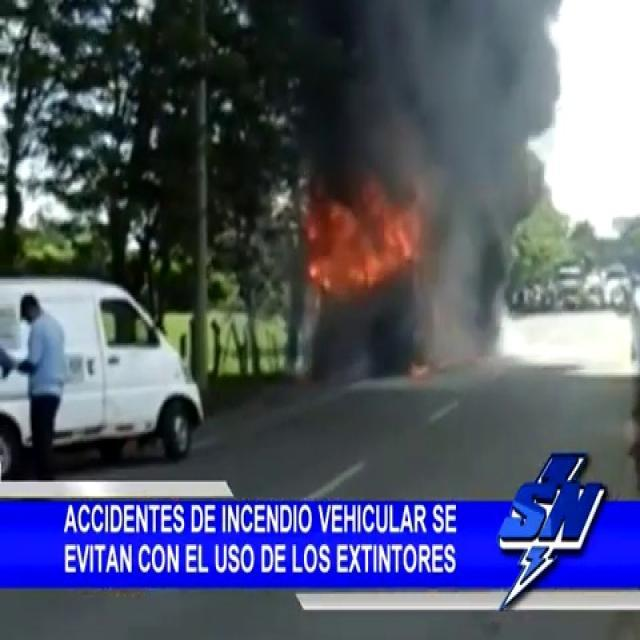Fire: (302, 168, 422, 310)
Smoke: (237, 0, 632, 343)
